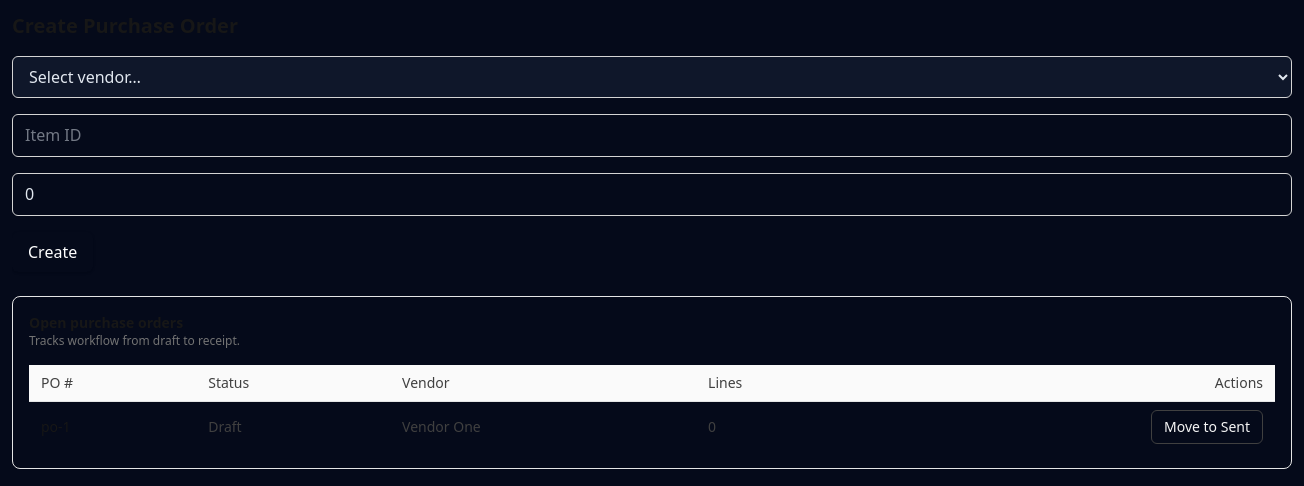
Test: PurchaseOrderPage › advances status and reflects timeline updates
The width and height of the screenshot is (1304, 486).
Click the button "Move to Sent": (1207, 427) [1151,410,1263,444]
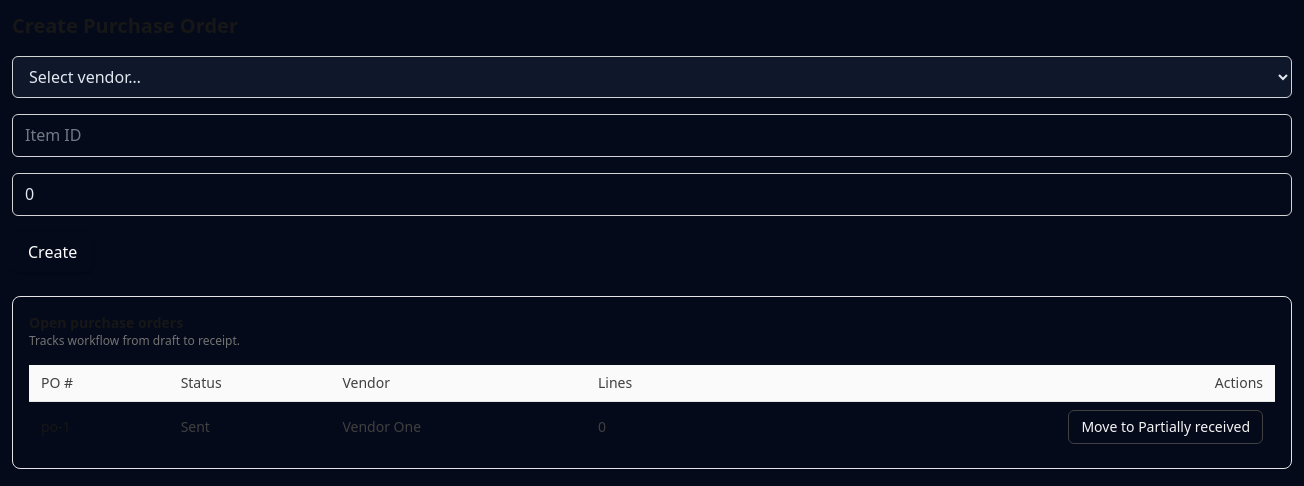
Expected: the text "Sent" is shown, [169,402,330,452]
